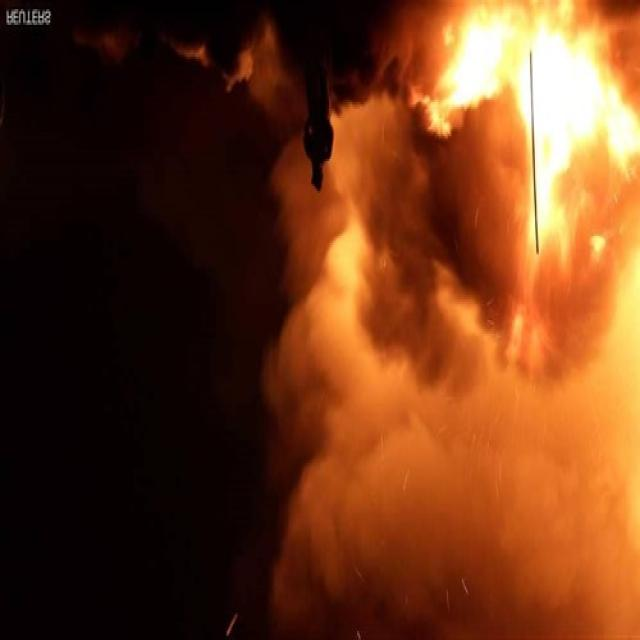fire: (418, 0, 640, 330)
